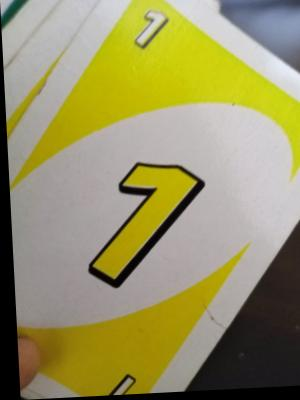yellow: (125, 0, 184, 97)
